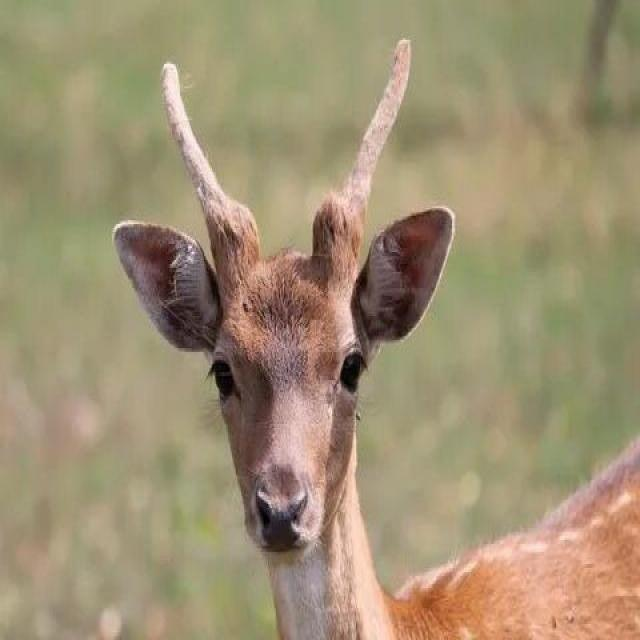deer: (146, 129, 594, 640)
